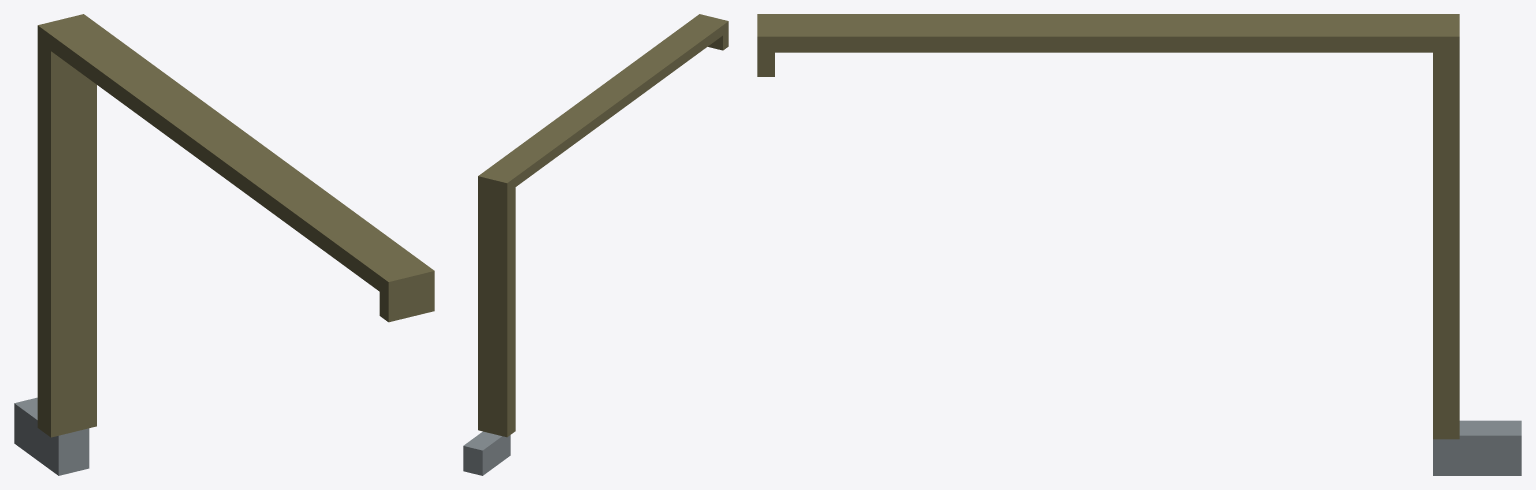
File: weapon_sling_worn_jacket.glb
The picture shows the model from 3 angles, left to right: view 1: azimuth 30°, elevation 25°; view 2: azimuth 150°, elevation 25°; view 3: azimuth 270°, elevation 25°; orthographic projection. The views are drawn at different scales.
Parts seen in each view (by area): view 1: shell:compound; view 2: shell:compound; view 3: shell:compound.
Part boxes in pixels (x1,y1,x2,y2): shell:compound: (14, 14, 434, 475); shell:compound: (463, 14, 728, 475); shell:compound: (757, 14, 1521, 475).
Size of the model in its own units: 0.024 by 0.22 by 0.344.
